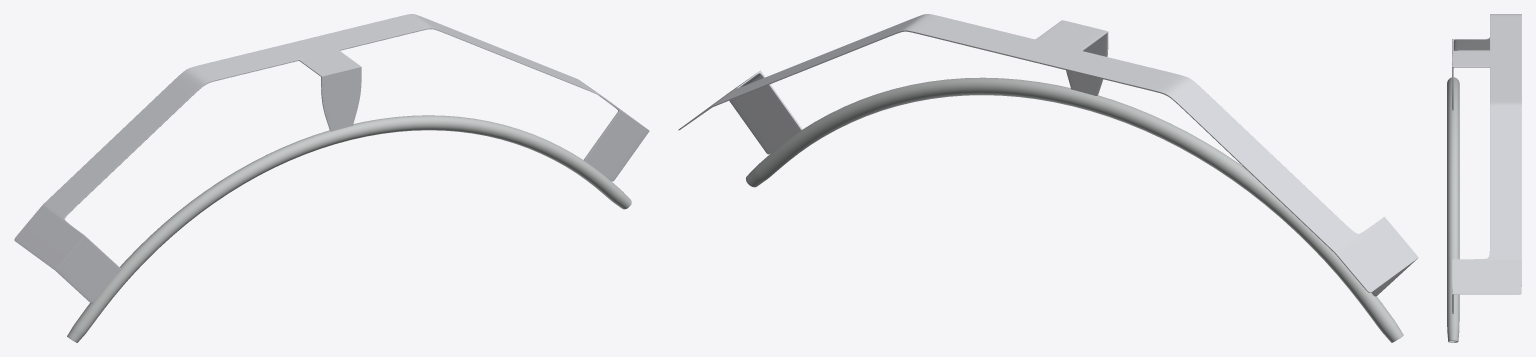
3 renders of one model, left to right at view 1: azimuth 30°, elevation 25°; view 2: azimuth 150°, elevation 25°; view 3: azimuth 270°, elevation 25°, orthographic. The views are drawn at different scales.
Visible parts, largest first — view 1: base_angle, corner_pipe; view 2: base_angle, corner_pipe; view 3: base_angle, corner_pipe.
Boxes of the visible parts, left/top/right/bottom form: base_angle: left=14, top=14, right=649, bottom=303; corner_pipe: left=67, top=115, right=631, bottom=342; base_angle: left=678, top=14, right=1418, bottom=296; corner_pipe: left=746, top=77, right=1403, bottom=342; base_angle: left=1452, top=14, right=1521, bottom=313; corner_pipe: left=1447, top=77, right=1459, bottom=342.
Bounding box in the file's own units: 10.2 × 3.39 × 1.34.
1 material, 1 textured.
